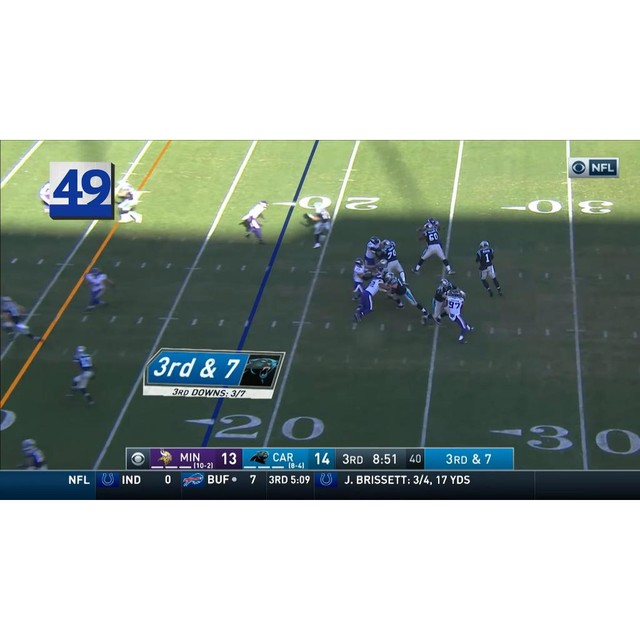american-football-player: (384, 270, 429, 323), (413, 218, 453, 275), (65, 345, 98, 407), (353, 270, 388, 324), (2, 296, 39, 345), (475, 239, 503, 297), (82, 266, 115, 313), (447, 288, 474, 343), (114, 179, 144, 223), (304, 202, 332, 249), (240, 200, 269, 245), (429, 278, 453, 325), (382, 238, 407, 283), (19, 438, 50, 471), (351, 258, 372, 301), (362, 235, 382, 274), (37, 180, 54, 219)
